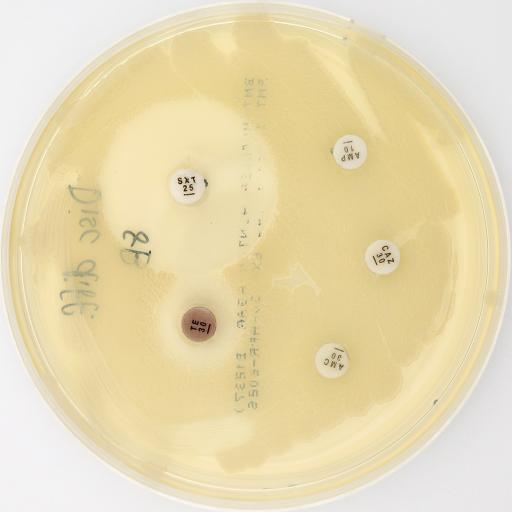disc: (169, 168, 207, 204), (331, 134, 367, 170), (181, 306, 216, 342), (364, 240, 400, 274), (315, 342, 349, 378)
